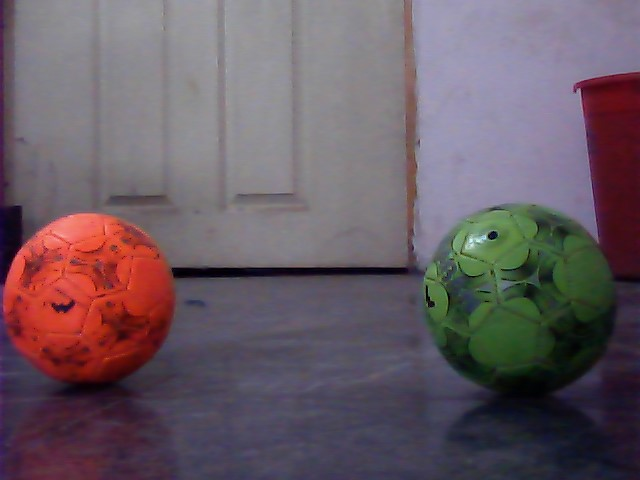Green_ball: (425, 200, 621, 387)
Orange_ball: (2, 212, 189, 379)
